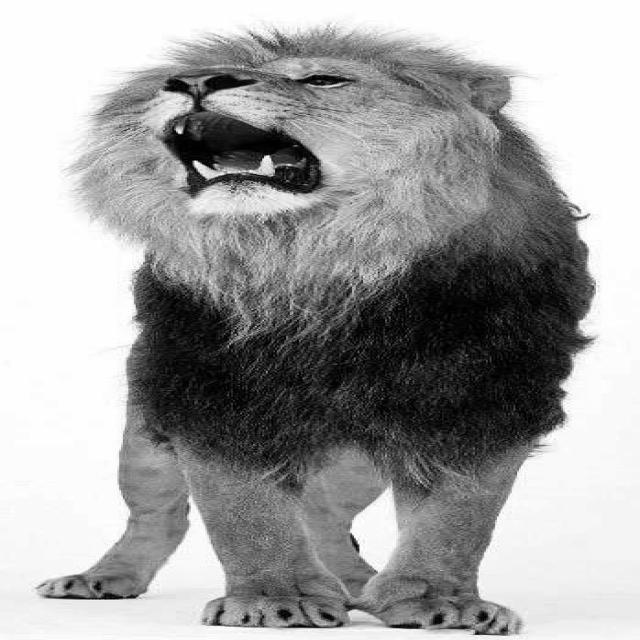Lion: (74, 24, 624, 640)
